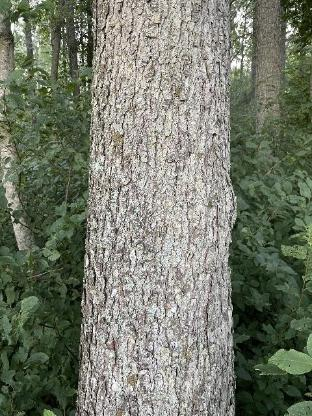tree: (72, 0, 242, 416)
